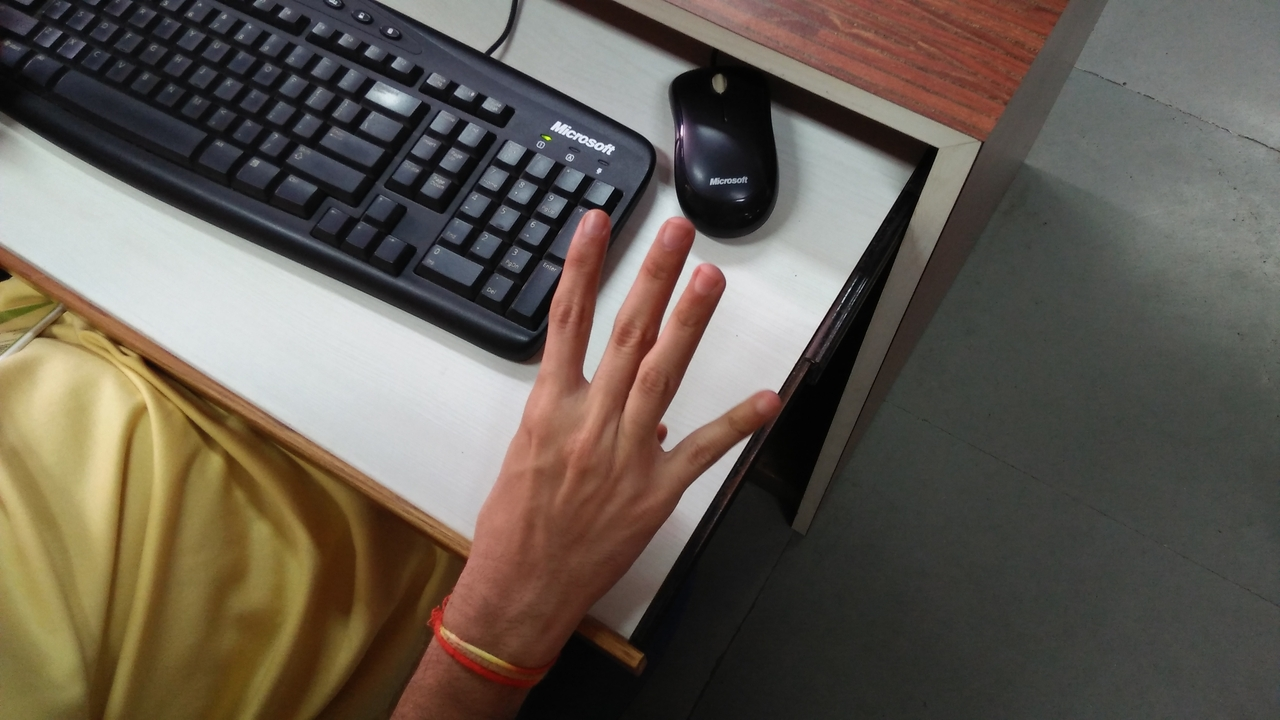fingertip: (562, 202, 618, 246), (678, 256, 730, 302), (746, 380, 786, 433), (646, 206, 692, 250)
